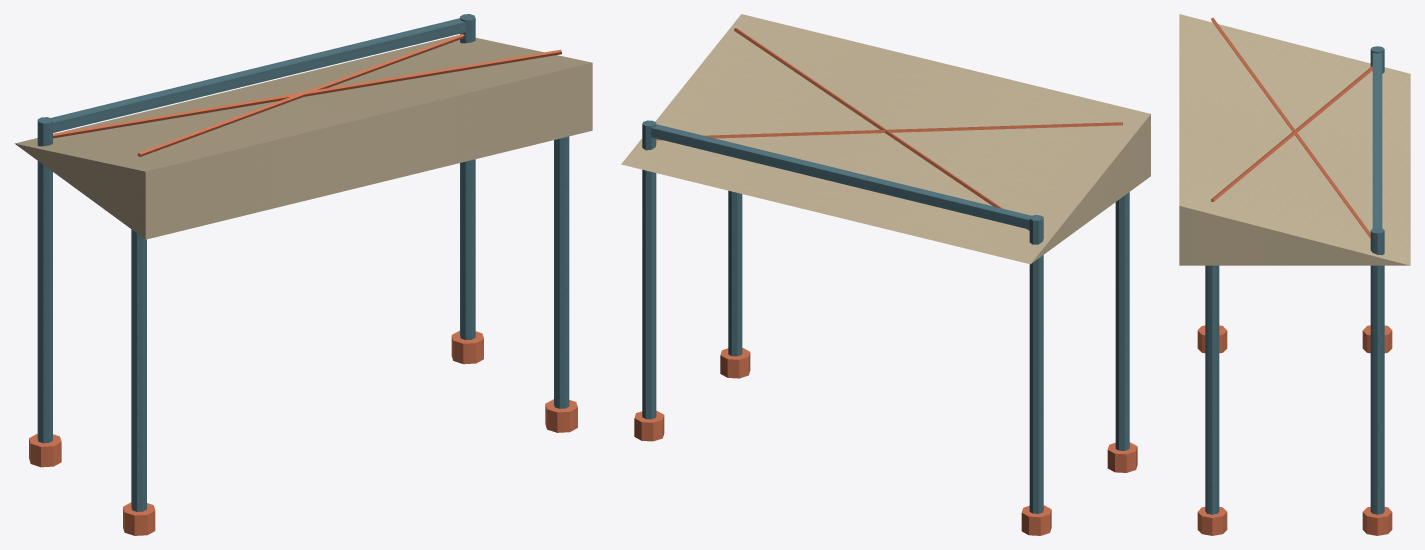
File: atlas100-s041-a08.glb
3 renders of one model, left to right at view 1: azimuth 30°, elevation 25°; view 2: azimuth 150°, elevation 25°; view 3: azimuth 270°, elevation 25°, orthographic. The views are drawn at different scales.
Parts seen in each view (by area): view 1: atlas100-s041-a08:part-010, atlas100-s041-a08:part-008, atlas100-s041-a08:part-000, atlas100-s041-a08:part-002, atlas100-s041-a08:part-006, atlas100-s041-a08:part-004, atlas100-s041-a08:part-011, atlas100-s041-a08:part-012, atlas100-s041-a08:part-007, atlas100-s041-a08:part-003, atlas100-s041-a08:part-005, atlas100-s041-a08:part-001; view 2: atlas100-s041-a08:part-010, atlas100-s041-a08:part-008, atlas100-s041-a08:part-000, atlas100-s041-a08:part-004, atlas100-s041-a08:part-002, atlas100-s041-a08:part-006, atlas100-s041-a08:part-012, atlas100-s041-a08:part-011, atlas100-s041-a08:part-007, atlas100-s041-a08:part-003, atlas100-s041-a08:part-005, atlas100-s041-a08:part-001; view 3: atlas100-s041-a08:part-010, atlas100-s041-a08:part-004, atlas100-s041-a08:part-006, atlas100-s041-a08:part-008, atlas100-s041-a08:part-012, atlas100-s041-a08:part-011, atlas100-s041-a08:part-005, atlas100-s041-a08:part-007, atlas100-s041-a08:part-001, atlas100-s041-a08:part-003.
Boxes of the visible parts, x1,y1,x2,y2 form: atlas100-s041-a08:part-010: (14,35,592,239); atlas100-s041-a08:part-008: (51,18,465,132); atlas100-s041-a08:part-000: (37,117,52,443); atlas100-s041-a08:part-002: (131,229,146,511); atlas100-s041-a08:part-006: (554,136,569,408); atlas100-s041-a08:part-004: (460,14,475,339); atlas100-s041-a08:part-011: (53,49,561,138); atlas100-s041-a08:part-012: (137,34,464,156); atlas100-s041-a08:part-007: (545,399,577,432); atlas100-s041-a08:part-003: (123,502,155,535); atlas100-s041-a08:part-005: (451,330,483,364); atlas100-s041-a08:part-001: (29,434,61,467); atlas100-s041-a08:part-010: (621,14,1150,264); atlas100-s041-a08:part-008: (651,124,1031,229); atlas100-s041-a08:part-000: (1029,215,1043,513); atlas100-s041-a08:part-004: (642,120,656,419); atlas100-s041-a08:part-002: (1115,192,1129,450); atlas100-s041-a08:part-006: (728,190,742,356); atlas100-s041-a08:part-012: (655,122,1122,140); atlas100-s041-a08:part-011: (734,28,1029,230); atlas100-s041-a08:part-007: (720,348,750,378); atlas100-s041-a08:part-003: (1107,442,1137,472); atlas100-s041-a08:part-005: (634,410,664,441); atlas100-s041-a08:part-001: (1021,505,1051,535); atlas100-s041-a08:part-010: (1179,14,1410,265); atlas100-s041-a08:part-004: (1370,227,1384,514); atlas100-s041-a08:part-006: (1205,265,1219,514); atlas100-s041-a08:part-008: (1372,53,1382,228); atlas100-s041-a08:part-012: (1211,17,1370,238); atlas100-s041-a08:part-011: (1211,66,1372,201); atlas100-s041-a08:part-005: (1362,506,1392,535); atlas100-s041-a08:part-007: (1197,506,1227,535); atlas100-s041-a08:part-001: (1362,325,1392,353); atlas100-s041-a08:part-003: (1197,325,1227,353).
Size of the model in its own units: 5.56 by 4.42 by 2.8.
Materials: 3 (3 with a texture image).
